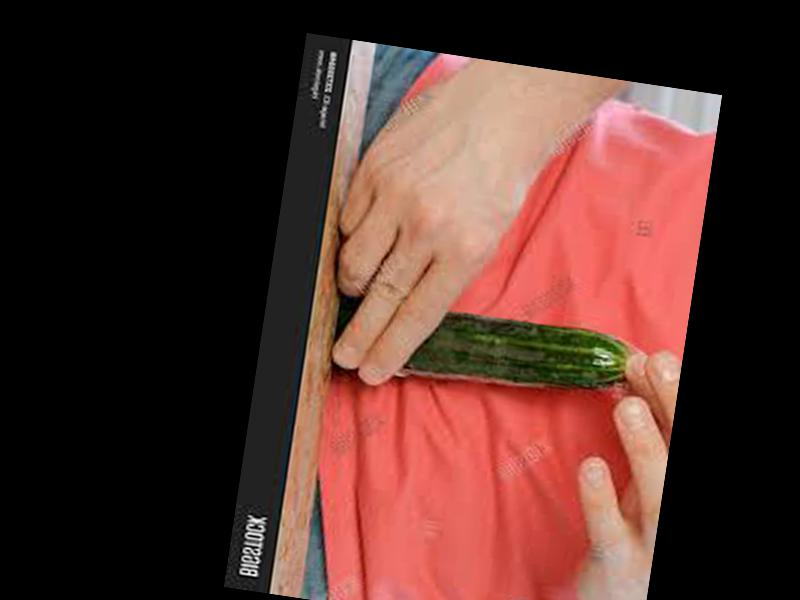Cucumber: (400, 302, 632, 404)
